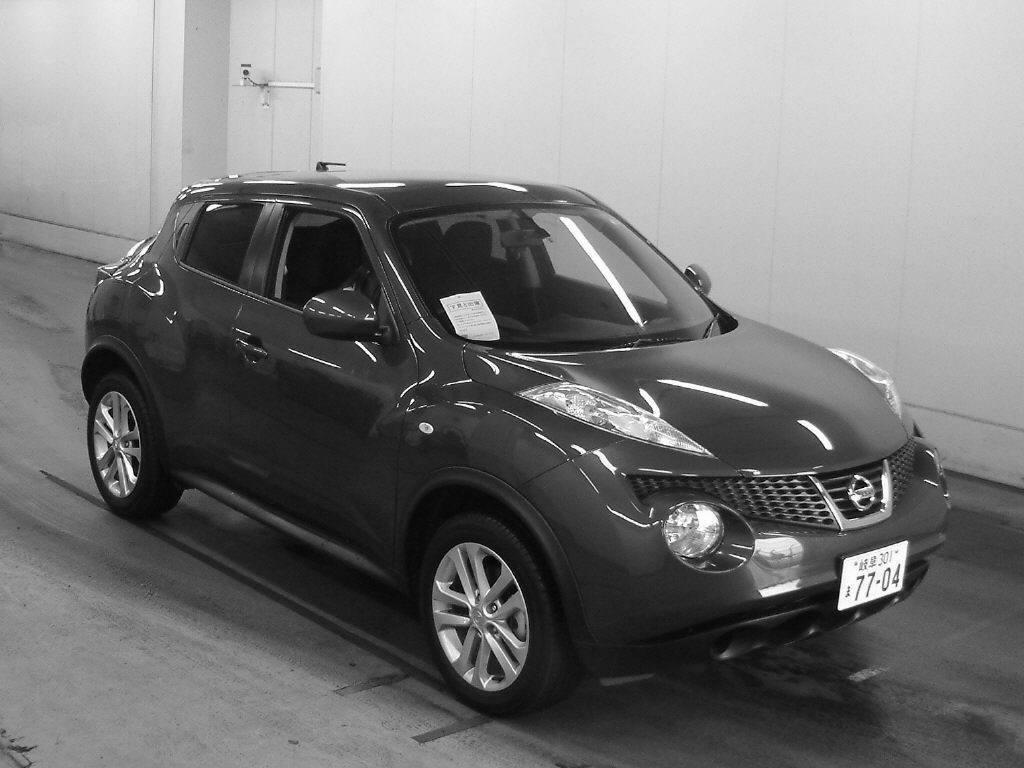car: (80, 164, 953, 723)
